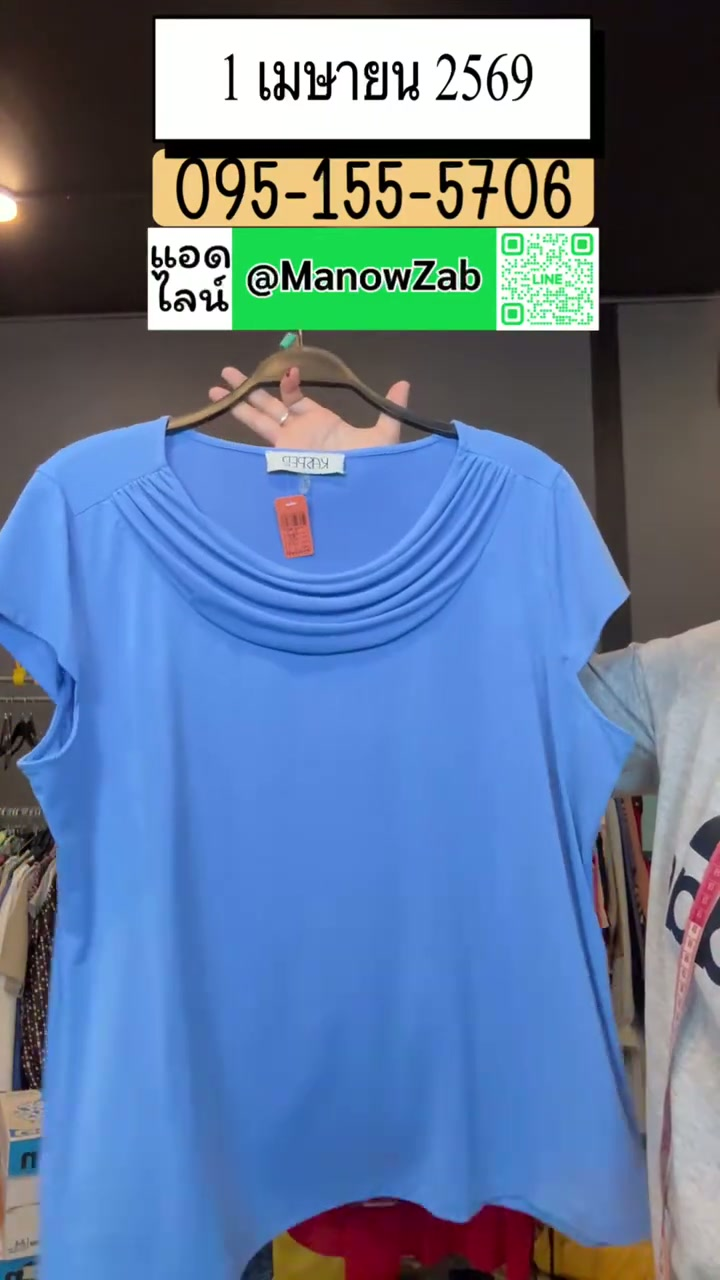display_shirt: (0, 420, 648, 1279)
